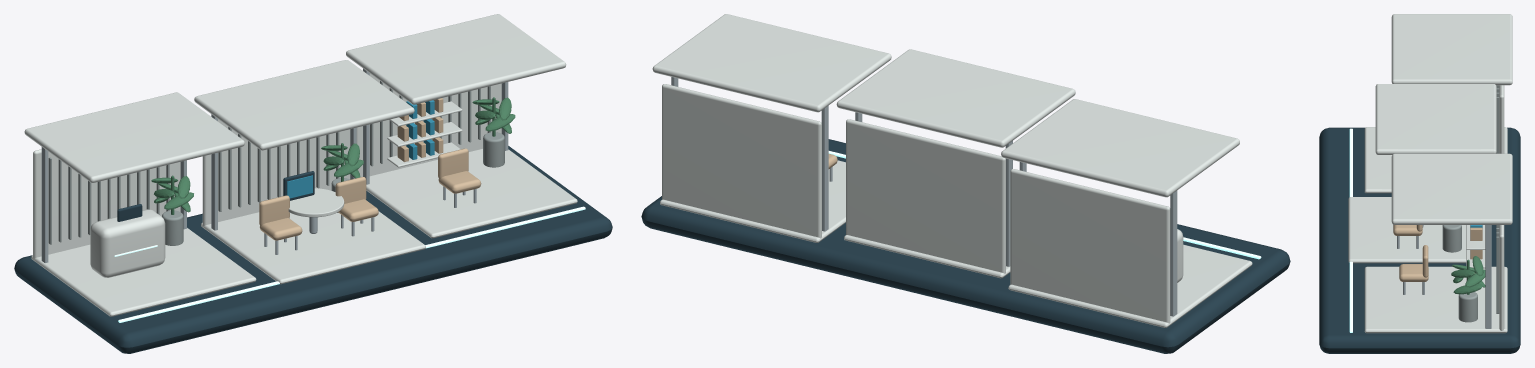
File: care-world-v1.glb
3 renders of one model, left to right at view 1: azimuth 30°, elevation 25°; view 2: azimuth 150°, elevation 25°; view 3: azimuth 270°, elevation 25°, orthographic. The views are drawn at different scales.
Visible parts, largest first — view 1: Monolithic care plinth, Floating roof, Floating roof.001, Floating roof.002, Continuity floor, Consultation floor, Arrival floor, Arrival rear wall, Consultation rear wall, Welcome desk, Continuity rear wall, Continuous path (+15 smaller); view 2: Monolithic care plinth, Arrival rear wall, Continuity rear wall, Consultation rear wall, Floating roof.002, Floating roof, Floating roof.001, Arrival floor, Continuity floor, Consultation floor, Pavilion upright, Pavilion upright.004 (+1 smaller); view 3: Monolithic care plinth, Floating roof.002, Floating roof, Floating roof.001, Continuity floor, Consultation floor, Arrival floor, Pavilion upright.005, Continuity rear wall, Planter.002, Continuous path, Planter.001 (+13 smaller).
Boxes of the visible parts, <box> form: Monolithic care plinth: <box>14,146,612,353</box>; Floating roof: <box>24,92,244,182</box>; Floating roof.001: <box>194,60,414,150</box>; Floating roof.002: <box>346,14,566,104</box>; Continuity floor: <box>366,149,577,238</box>; Consultation floor: <box>201,211,425,284</box>; Arrival floor: <box>31,228,256,316</box>; Arrival rear wall: <box>33,149,180,258</box>; Consultation rear wall: <box>202,119,350,225</box>; Welcome desk: <box>90,209,165,277</box>; Continuity rear wall: <box>356,73,501,177</box>; Continuous path: <box>118,206,585,322</box>; Monolithic care plinth: <box>641,139,1290,353</box>; Arrival rear wall: <box>1010,169,1170,323</box>; Continuity rear wall: <box>662,84,821,238</box>; Consultation rear wall: <box>846,119,1005,273</box>; Floating roof.002: <box>652,14,891,112</box>; Floating roof: <box>1001,99,1239,197</box>; Floating roof.001: <box>836,49,1075,147</box>; Arrival floor: <box>1008,244,1252,327</box>; Continuity floor: <box>660,160,845,242</box>; Consultation floor: <box>844,235,1010,278</box>; Pavilion upright: <box>1170,190,1177,316</box>; Pavilion upright.004: <box>821,105,828,231</box>; Monolithic care plinth: <box>1319,127,1520,353</box>; Floating roof.002: <box>1391,153,1512,224</box>; Floating roof: <box>1391,14,1512,85</box>; Floating roof.001: <box>1375,84,1496,154</box>; Continuity floor: <box>1364,266,1507,333</box>; Consultation floor: <box>1348,197,1466,263</box>; Arrival floor: <box>1364,127,1507,193</box>; Pavilion upright.005: <box>1485,225,1491,328</box>; Continuity rear wall: <box>1499,225,1504,330</box>; Planter.002: <box>1458,292,1477,322</box>; Continuous path: <box>1349,128,1352,332</box>; Planter.001: <box>1442,225,1461,252</box>.
Bounding box in the file's own units: 12.6 × 3.65 × 5.
